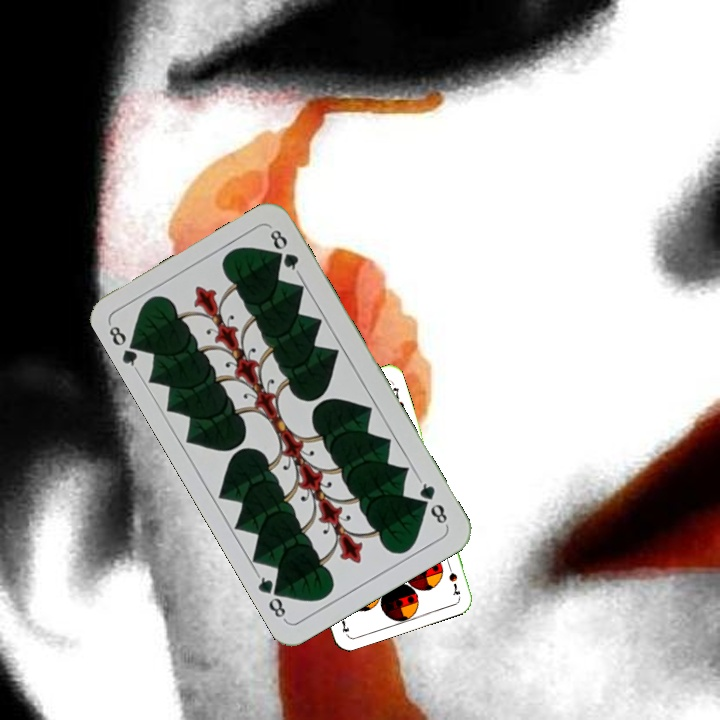G8: (104, 320, 145, 374), (414, 475, 450, 529)
S7: (444, 559, 463, 598)
